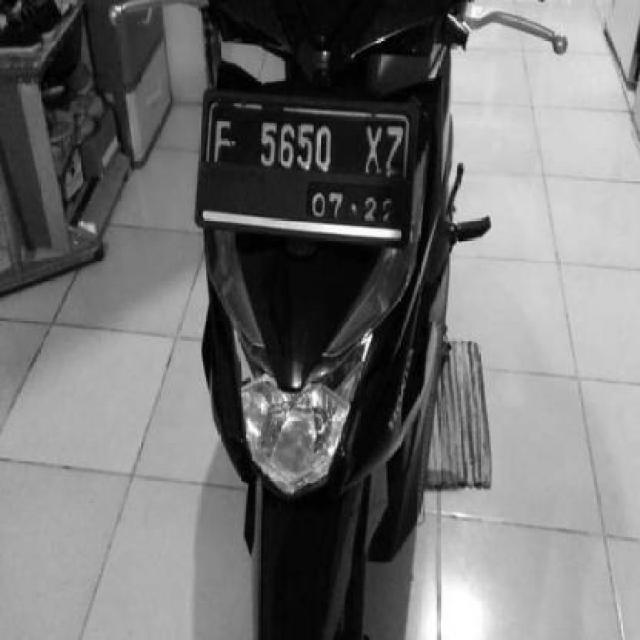0: (314, 121, 338, 176)
5: (258, 118, 277, 168), (299, 120, 313, 174)
6: (282, 118, 296, 174)
F: (208, 111, 236, 173)
X: (364, 124, 381, 172)
Z: (383, 124, 402, 180)
